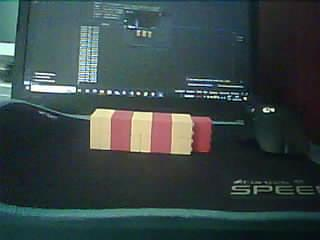lego: (90, 107, 214, 154)
